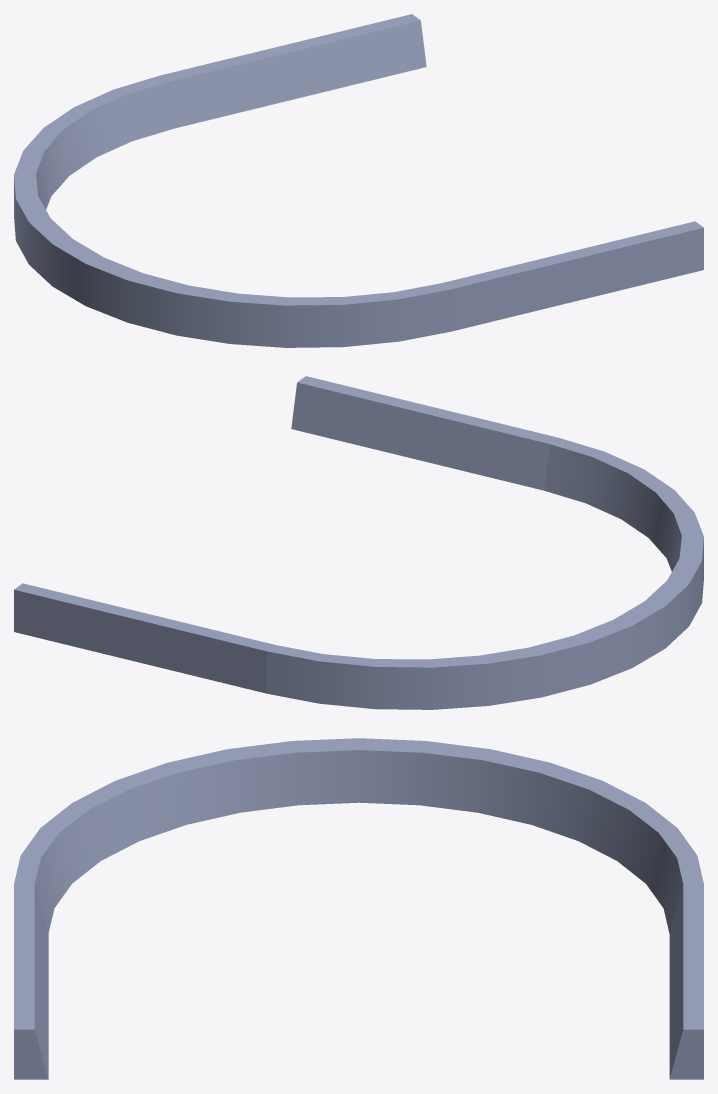
The model's file is road-end-round-barrier.glb.
3 renders of one model, top to bottom at view 1: azimuth 30°, elevation 25°; view 2: azimuth 150°, elevation 25°; view 3: azimuth 270°, elevation 25°, orthographic. The views are drawn at different scales.
Parts seen in each view (by area): view 1: road-end-round-barrier; view 2: road-end-round-barrier; view 3: road-end-round-barrier.
Boxes of the visible parts, <box> form: road-end-round-barrier: <box>14,14,703,347</box>; road-end-round-barrier: <box>14,376,703,709</box>; road-end-round-barrier: <box>14,738,703,1079</box>.
Bounding box in the file's own units: 1 × 0.08 × 1.
Materials: 1 (1 with a texture image).
